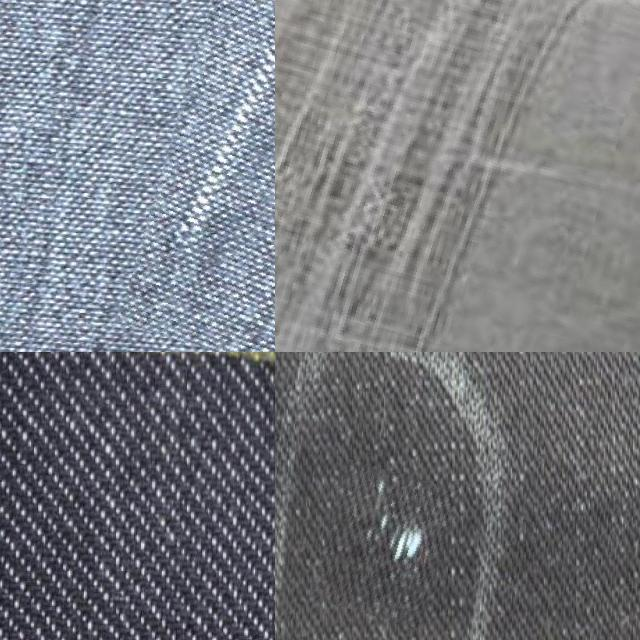Thread_other: (275, 0, 640, 352), (145, 0, 275, 352), (318, 465, 452, 623)
